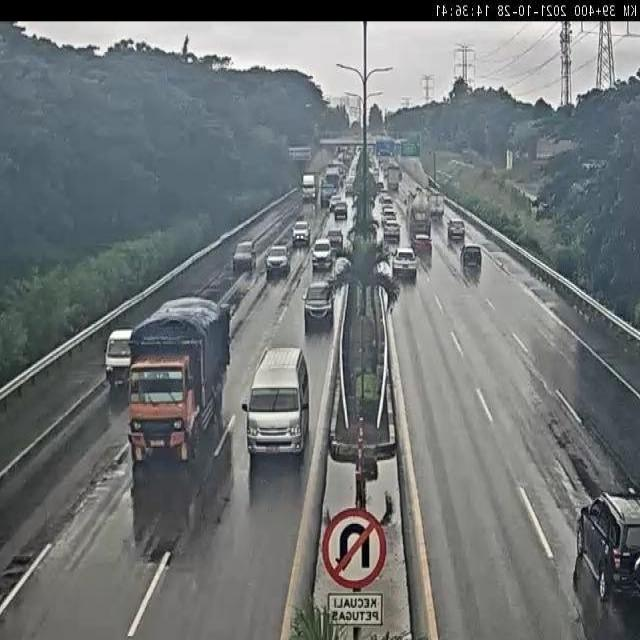Car: (301, 279, 336, 332), (308, 237, 334, 272), (231, 240, 256, 276), (391, 247, 417, 279), (266, 245, 290, 278), (458, 243, 482, 271), (292, 219, 312, 247)
Truck: (120, 289, 233, 469)
Van: (238, 343, 310, 470)
